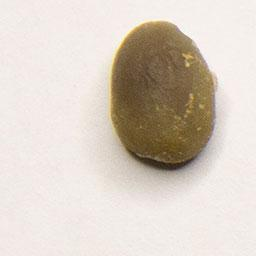premium: (107, 19, 220, 166)
